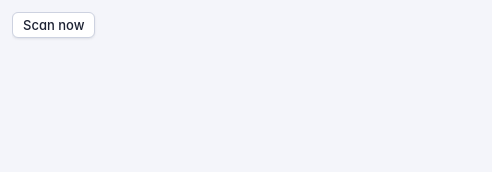
Scenario: Scan now on every row of the repositories table › says why when the caller may not request scans
Step 1. Click the button with aria-label "Scan octo/api now" → (54, 25), box [12, 12, 96, 38]
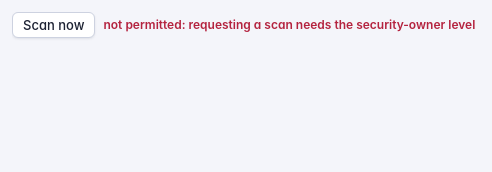
Expected: the text "not permitted: requesting a scan needs the security-owner level" is shown, [104, 16, 475, 34]
